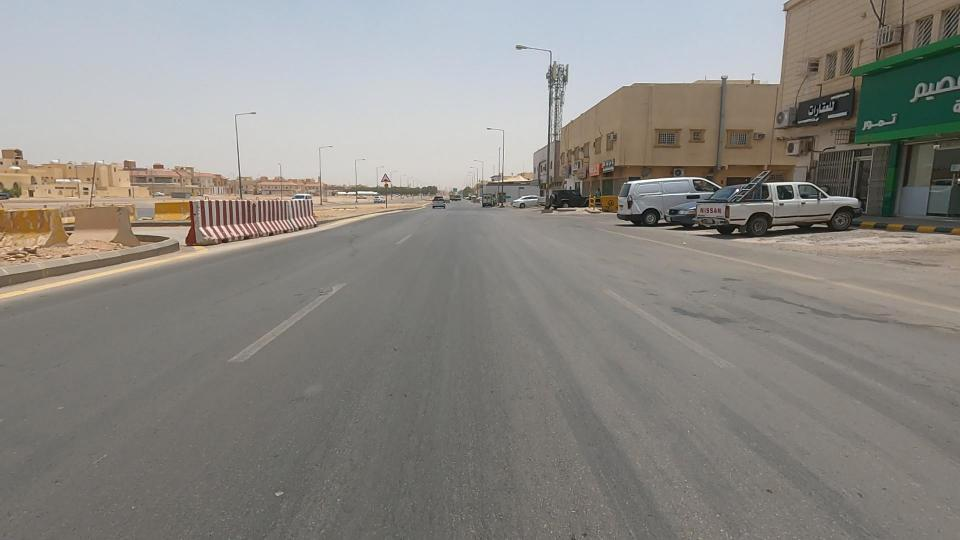CONSTRUCTION_ROAD: (98, 167, 372, 278)
